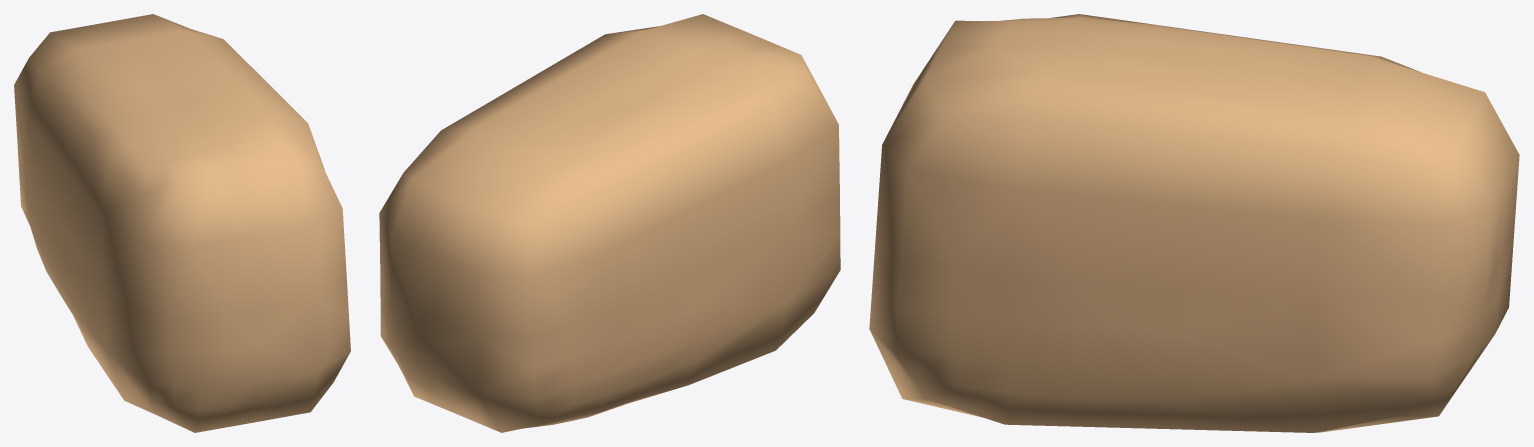
The model's file is ring_01_l.dae.
The picture shows the model from 3 angles, left to right: view 1: azimuth 30°, elevation 25°; view 2: azimuth 150°, elevation 25°; view 3: azimuth 270°, elevation 25°; orthographic projection. The views are drawn at different scales.
Visible parts, largest first — view 1: skin_geo_ring_01_r; view 2: skin_geo_ring_01_r; view 3: skin_geo_ring_01_r.
Boxes of the visible parts, <box> form: skin_geo_ring_01_r: <box>14,14,350,432</box>; skin_geo_ring_01_r: <box>379,14,840,432</box>; skin_geo_ring_01_r: <box>869,14,1519,432</box>.
Size of the model in its own units: 0.0238 by 0.0426 by 0.0256.
